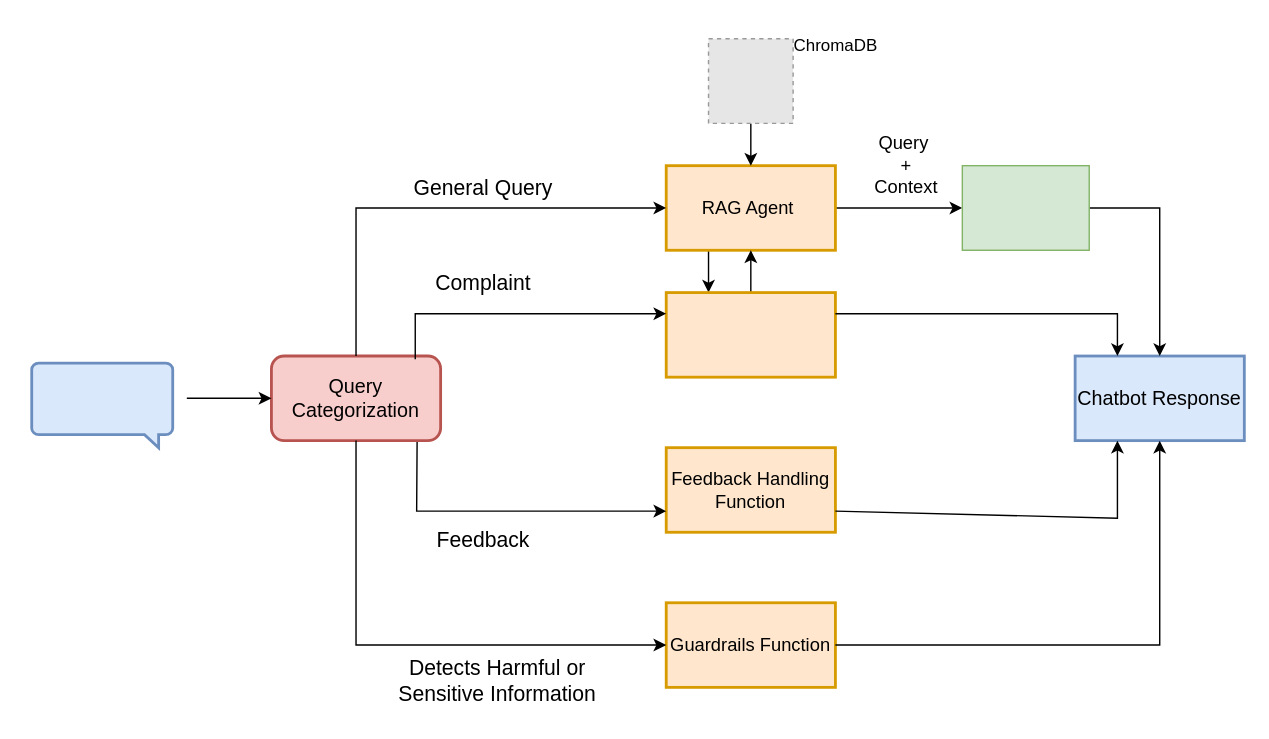
This 1269x739 diagram has some shape labels left out. Grey dashed boxes stand in for pictures. The shapes that lost their labels are listed below. From the top down, each one's box as (x1, y1, x2, y2) in pixels, then its label:
(961, 164, 1089, 250): LLM
(664, 290, 836, 378): Complaint Handling Agent
(30, 361, 173, 448): User Message
